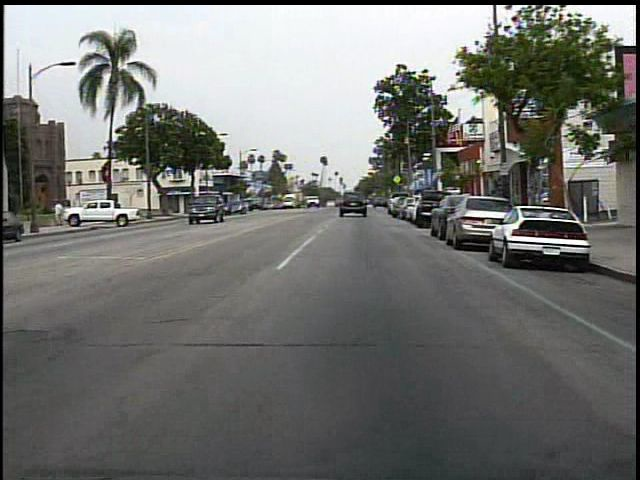person: (350, 188, 372, 220), (53, 198, 68, 229)
